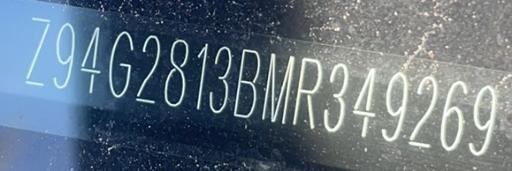letter: (261, 47, 295, 126), (406, 73, 438, 150), (292, 54, 322, 129), (438, 80, 468, 155), (467, 83, 497, 158), (378, 70, 408, 143), (161, 35, 191, 108), (232, 47, 262, 120), (322, 59, 350, 134), (351, 64, 379, 139), (24, 11, 52, 86), (106, 27, 134, 100), (134, 33, 162, 104), (208, 43, 232, 116), (52, 19, 76, 90), (78, 24, 102, 93), (192, 41, 210, 110)
